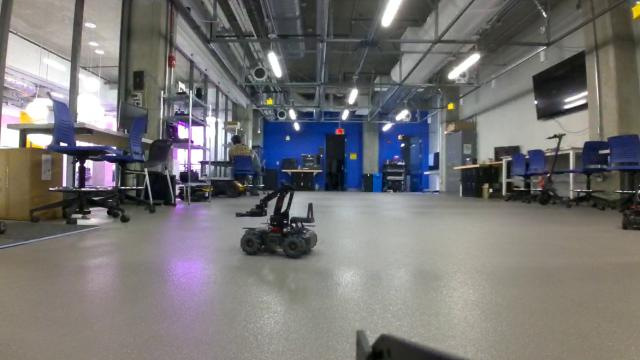robot: (230, 175, 320, 260)
